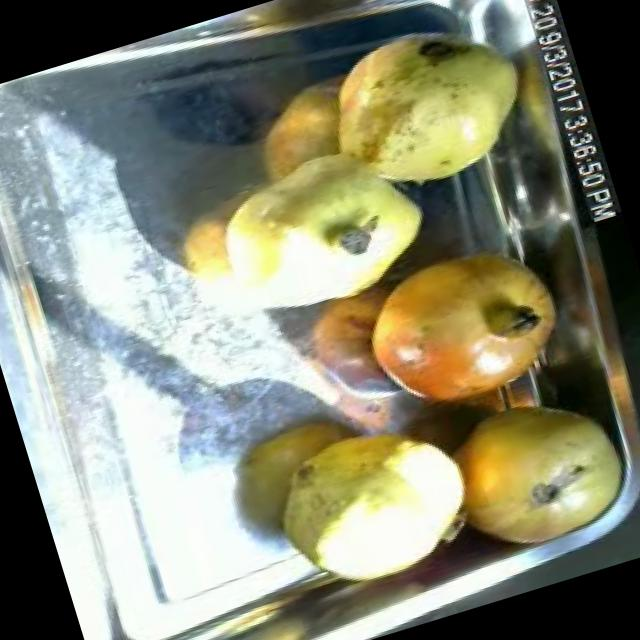fruit: (184, 113, 452, 344), (334, 220, 590, 448), (293, 0, 554, 218), (247, 394, 493, 610), (417, 367, 640, 577)
